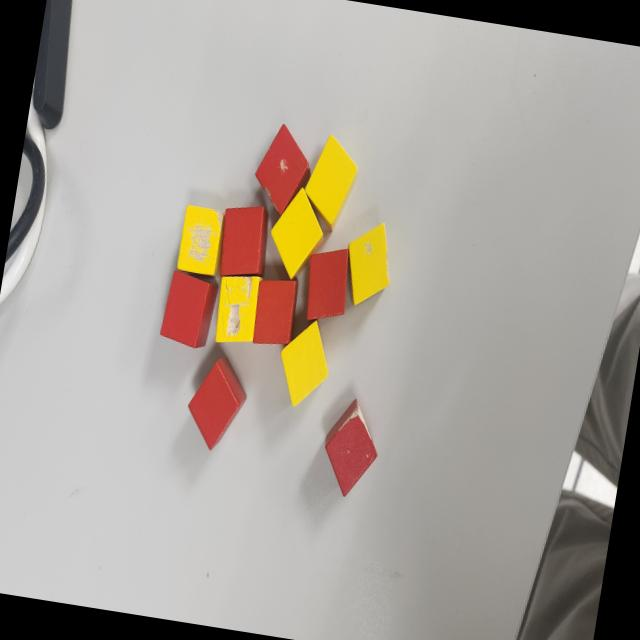broken: (316, 388, 387, 500), (248, 120, 318, 224), (338, 216, 398, 314), (175, 204, 227, 280), (212, 269, 262, 347)
red: (180, 352, 253, 456), (212, 198, 274, 286), (157, 268, 220, 352), (298, 241, 355, 328), (248, 272, 300, 350)
yellow: (262, 180, 332, 286), (298, 130, 364, 232), (271, 312, 337, 413)
